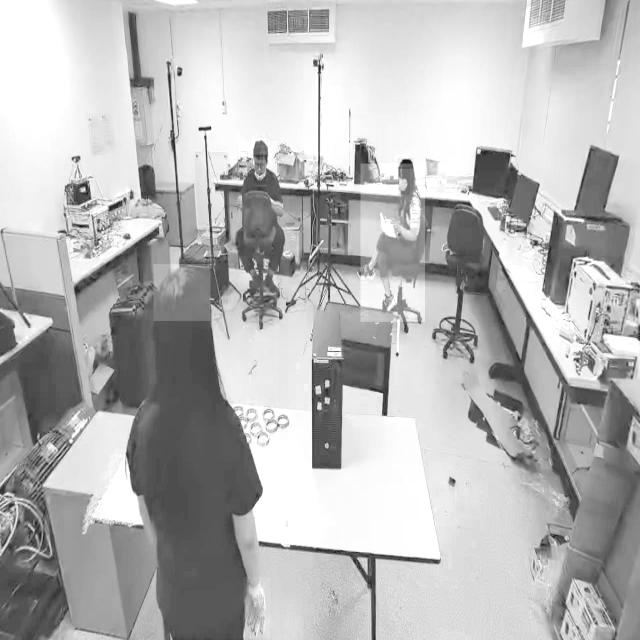face_mask: (398, 167, 410, 195)
face_nomask: (253, 159, 267, 177)
hand_glove: (243, 577, 270, 639)
hand_noglove: (391, 220, 401, 237)
head_nohelmet: (153, 264, 211, 322), (252, 138, 268, 156), (398, 157, 414, 170)
person: (120, 263, 278, 639), (360, 164, 426, 322), (238, 141, 290, 289)
shoes: (378, 288, 396, 318), (246, 271, 265, 299), (262, 271, 278, 297), (356, 261, 376, 280)
